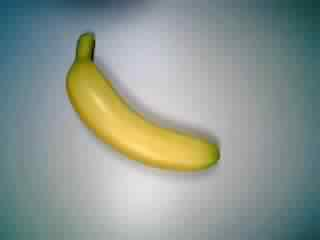banana: (60, 28, 228, 179)
